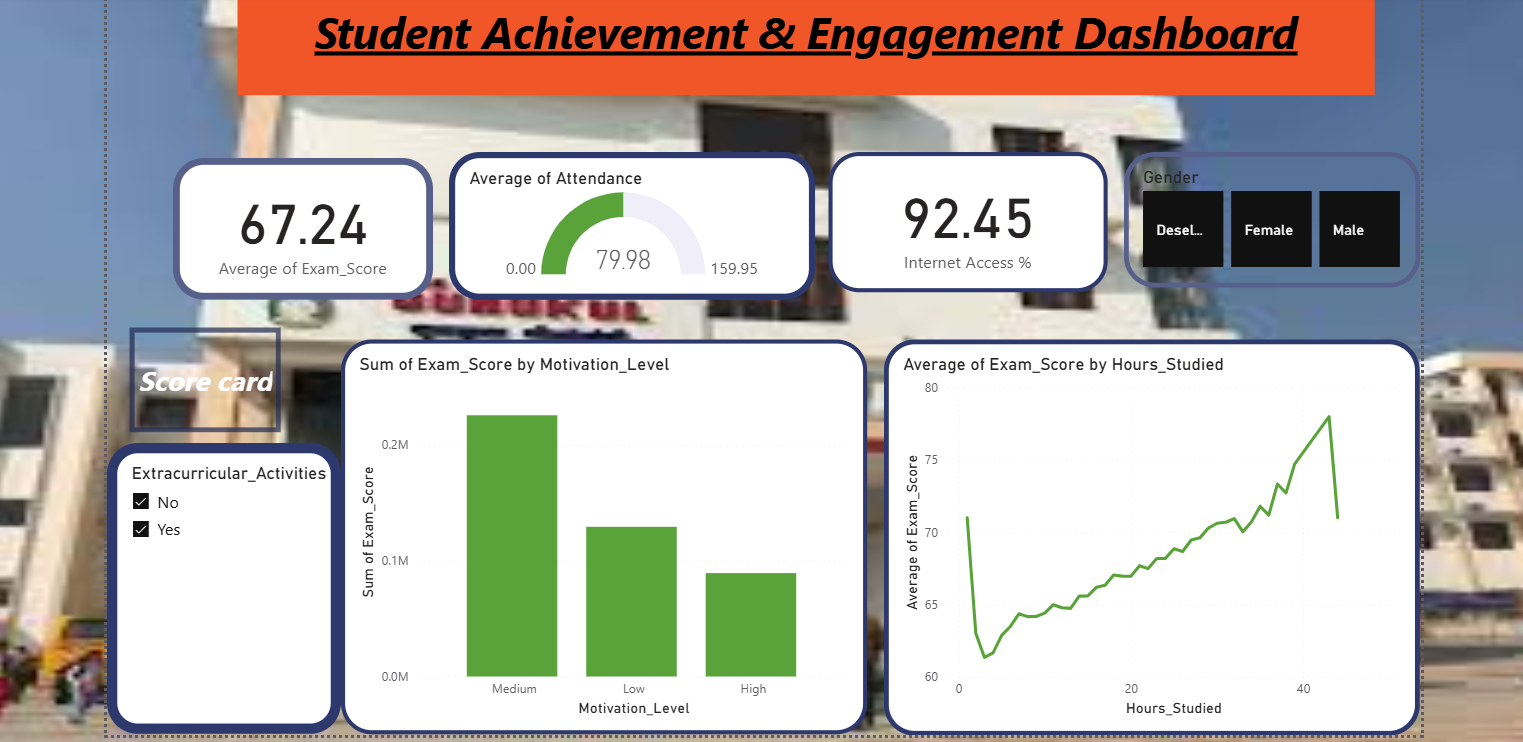

Layout of this report page (visuals, bound fields, positions):
{"tool":"powerbi","page":{"name":"Home page","canvas":[1280,720],"ordinal":0},"visuals":[{"type":"gauge","fields":{"Y":["Avg(StudentPerformanceFactors.Attendance)"]},"box":[333.9,151.8,356.7,144.2],"z":0},{"type":"card","fields":{"Values":["StudentPerformanceFactors.Internet Access %"]},"box":[702.7,151.8,271.7,136.6],"z":1000},{"type":"lineChart","fields":{"Y":["Avg(StudentPerformanceFactors.Exam_Score)"],"Category":["StudentPerformanceFactors.Hours_Studied"]},"box":[757,334.7,521.7,385.8],"z":2000},{"type":"columnChart","fields":{"Y":["Sum(StudentPerformanceFactors.Exam_Score)"],"Category":["StudentPerformanceFactors.Motivation_Level"]},"box":[228,334.7,513,384.4],"z":3000},{"type":"advancedSlicerVisual","fields":{"Values":["StudentPerformanceFactors.Gender"]},"box":[991.1,151.8,288.4,132],"z":4000},{"type":"card","fields":{"Values":["Avg(StudentPerformanceFactors.Exam_Score)"]},"box":[63.7,157.9,253.5,138.1],"z":5000},{"type":"textbox","box":[127.1,0,1107.8,96.5],"z":6000},{"type":"actionButton","box":[21.9,323,147.6,102.3],"z":7000},{"type":"listSlicer","fields":{"Values":["StudentPerformanceFactors.Extracurricular_Activities"]},"box":[0,435.5,228,283.5],"z":8000}]}

Visuals, with their boxes in screenshot pixels (x1, y1, x2, y2):
gauge - Avg(StudentPerformanceFactors.Attendance): {"left": 450, "top": 150, "right": 813, "bottom": 297}
card - StudentPerformanceFactors.Internet Access %: {"left": 825, "top": 150, "right": 1101, "bottom": 289}
lineChart - Avg(StudentPerformanceFactors.Exam_Score) x StudentPerformanceFactors.Hours_Studied: {"left": 880, "top": 336, "right": 1410, "bottom": 728}
columnChart - Sum(StudentPerformanceFactors.Exam_Score) x StudentPerformanceFactors.Motivation_Level: {"left": 343, "top": 336, "right": 864, "bottom": 727}
advancedSlicerVisual - StudentPerformanceFactors.Gender: {"left": 1118, "top": 150, "right": 1411, "bottom": 284}
card - Avg(StudentPerformanceFactors.Exam_Score): {"left": 176, "top": 156, "right": 433, "bottom": 297}
textbox: {"left": 240, "top": 0, "right": 1366, "bottom": 94}
actionButton: {"left": 133, "top": 324, "right": 283, "bottom": 428}
listSlicer - StudentPerformanceFactors.Extracurricular_Activities: {"left": 111, "top": 438, "right": 343, "bottom": 726}
